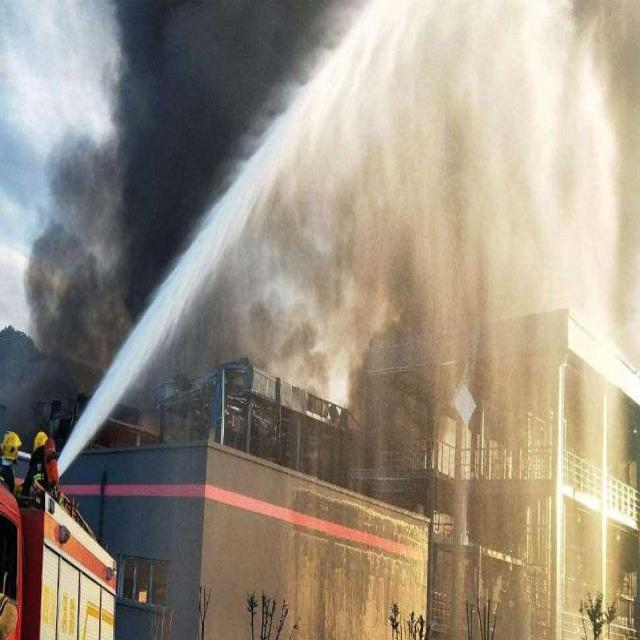Smoke: (1, 2, 343, 440), (572, 1, 640, 377)
